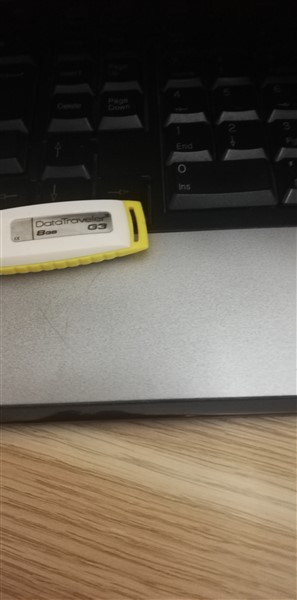flash disk: (1, 197, 149, 283)
klavye: (1, 1, 295, 430)
